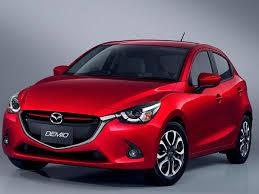mazda: (48, 107, 65, 124)
